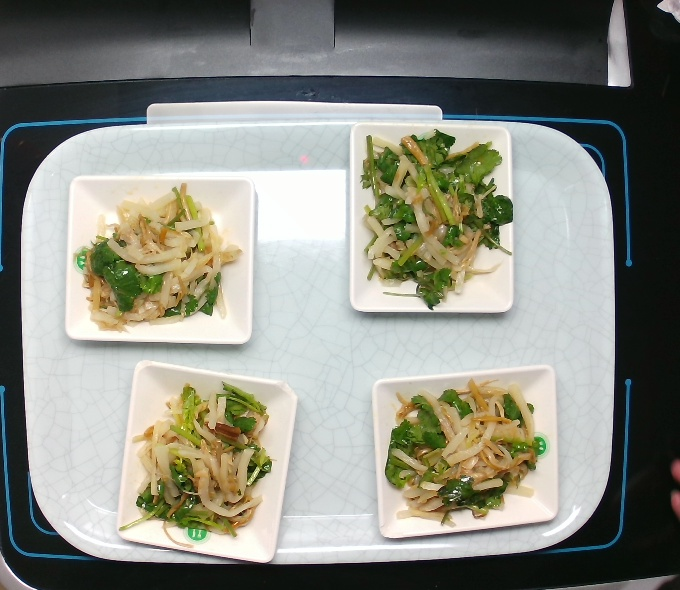wcq-LiangBanJinZhenGu: (361, 128, 516, 315), (76, 182, 246, 331), (132, 381, 275, 546), (385, 380, 546, 526)
